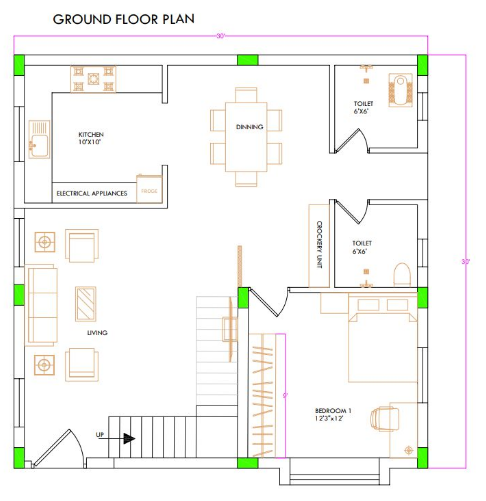door: (31, 429, 86, 470), (249, 286, 290, 318), (335, 125, 369, 154), (335, 198, 369, 224)
